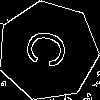C: (23, 26, 79, 74)
